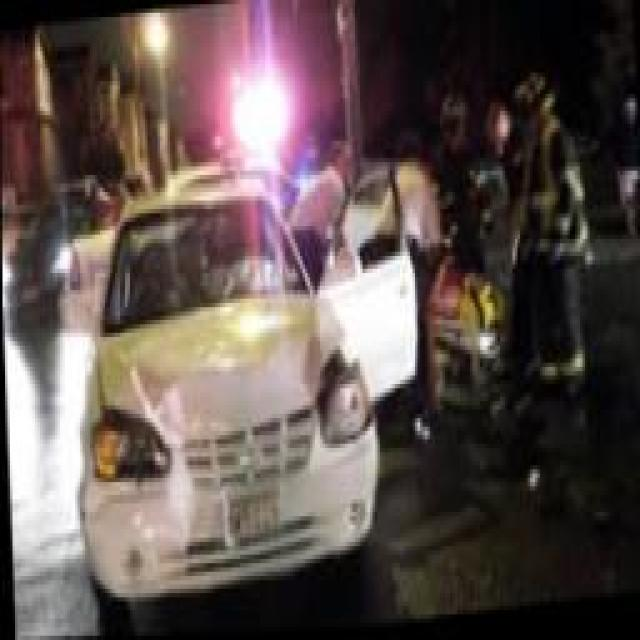Bonnet: (98, 293, 353, 444)
Light: (86, 426, 167, 487)
